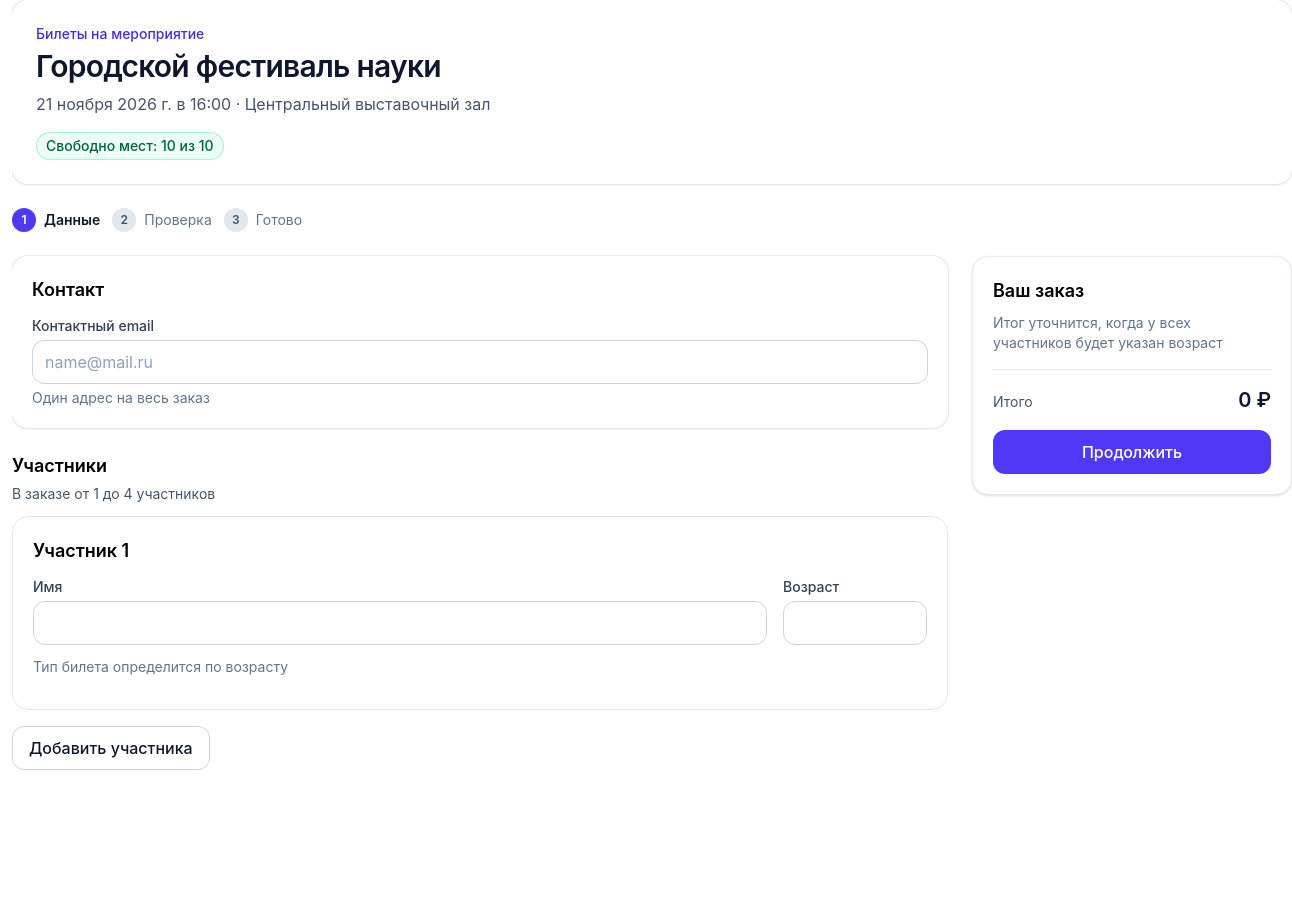
живой расчёт билетов и стоимости › итог — сумма билетов всех участников и пересчитывается при смене возраста
Click the button "Добавить участника" at (111, 748), box [12,726,210,770]
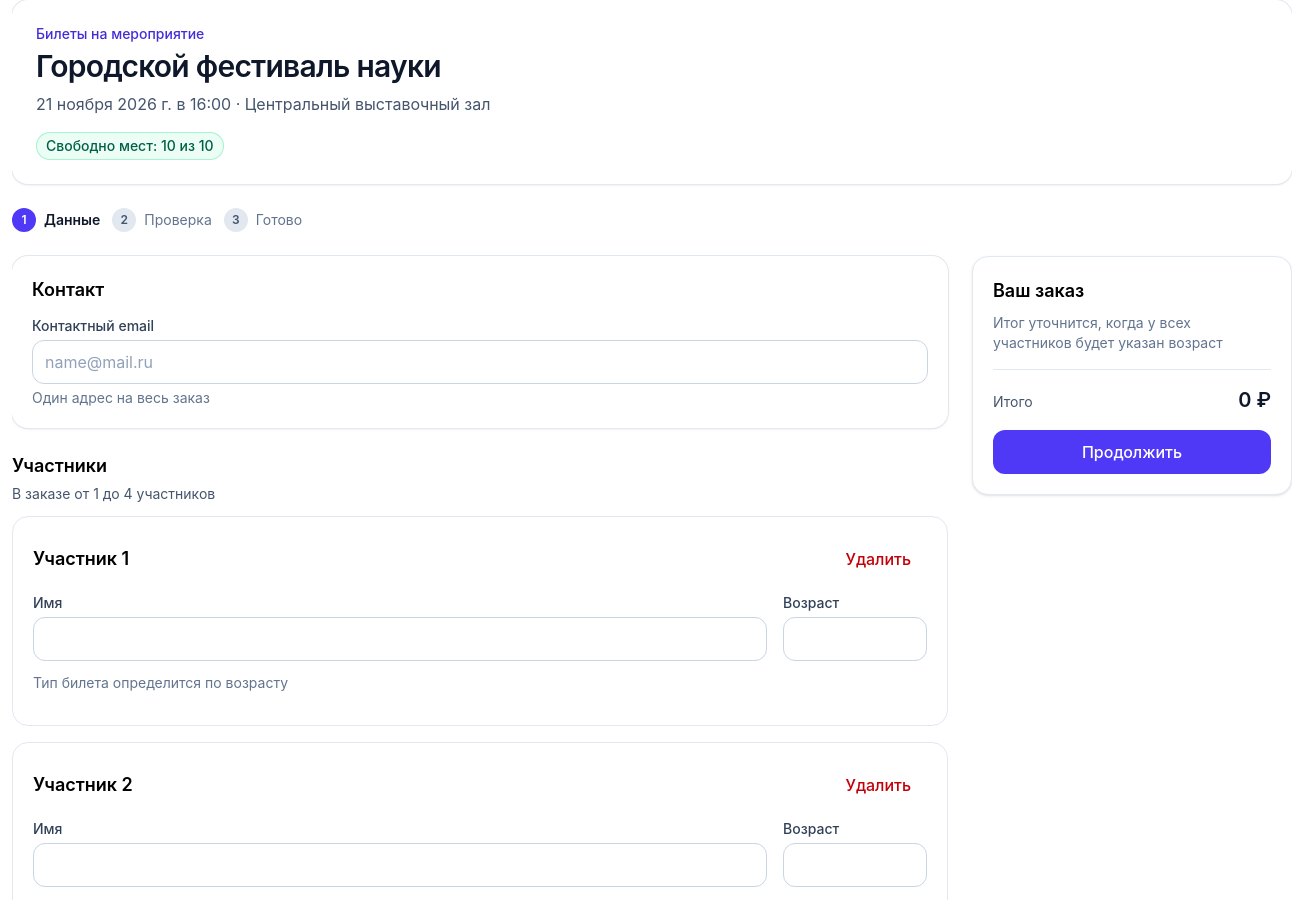
Type "35" into the field named "Возраст участника 1" at (855, 639), box [783,617,927,661]
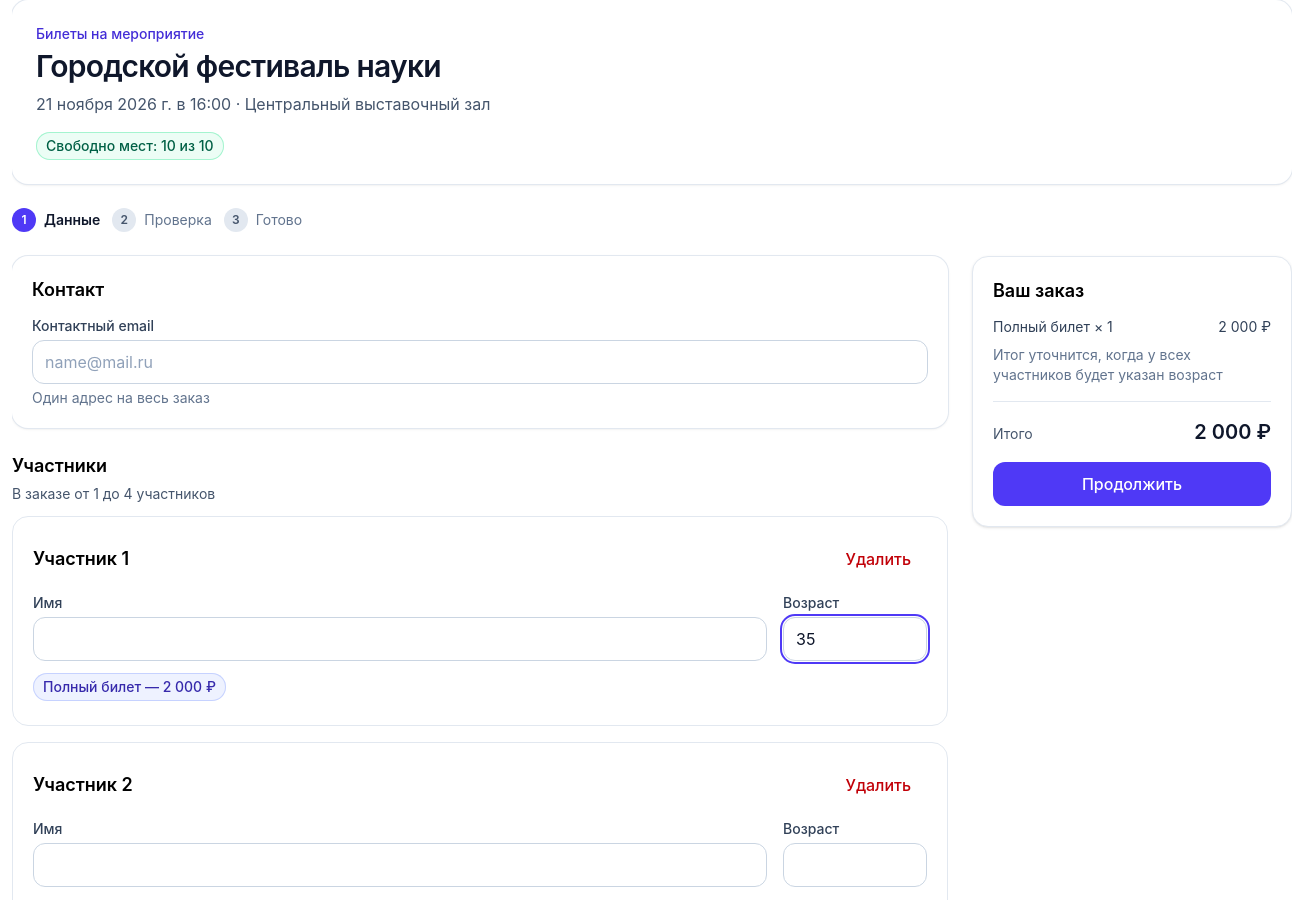
Type "13" into the field named "Возраст участника 2" at (855, 865), box [783,843,927,887]
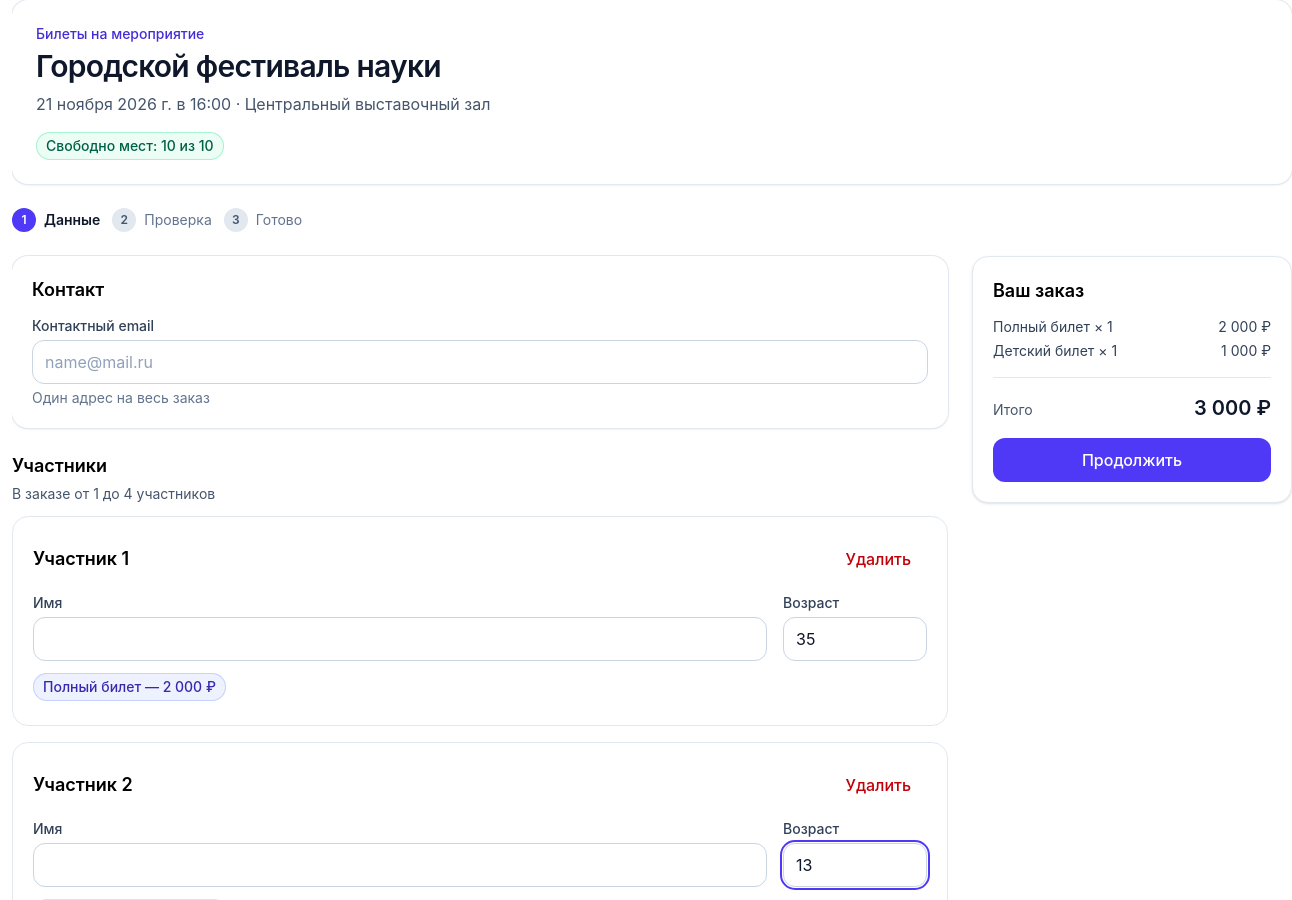
Result: the text with test id "order-total" reads "3 000 ₽" at [1194,396,1271,420]
Replace the text in the field named "Возраст участника 2" with "14" at (855, 865), box [783,843,927,887]
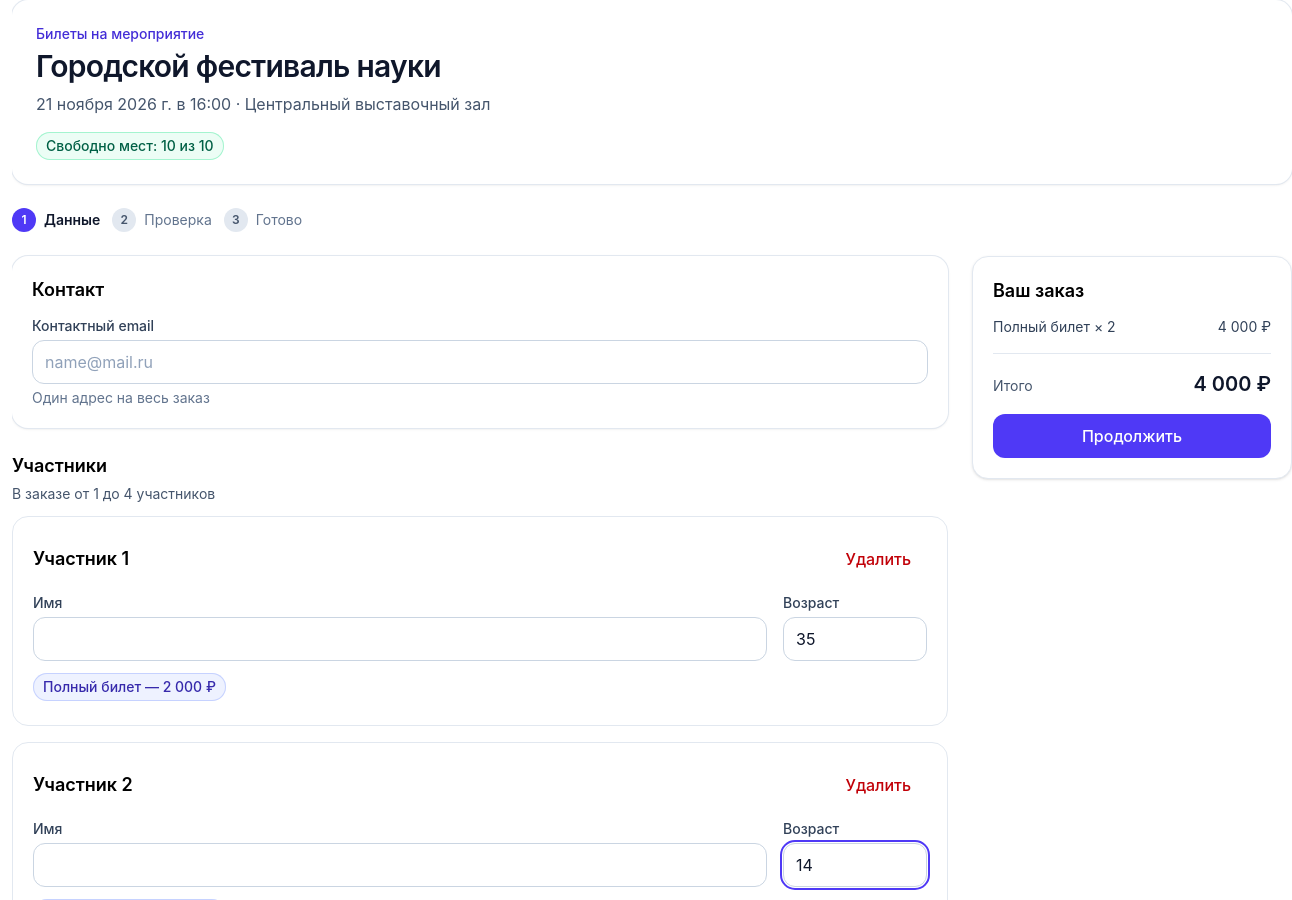
Result: the text with test id "order-total" reads "4 000 ₽" at [1194,372,1271,396]
